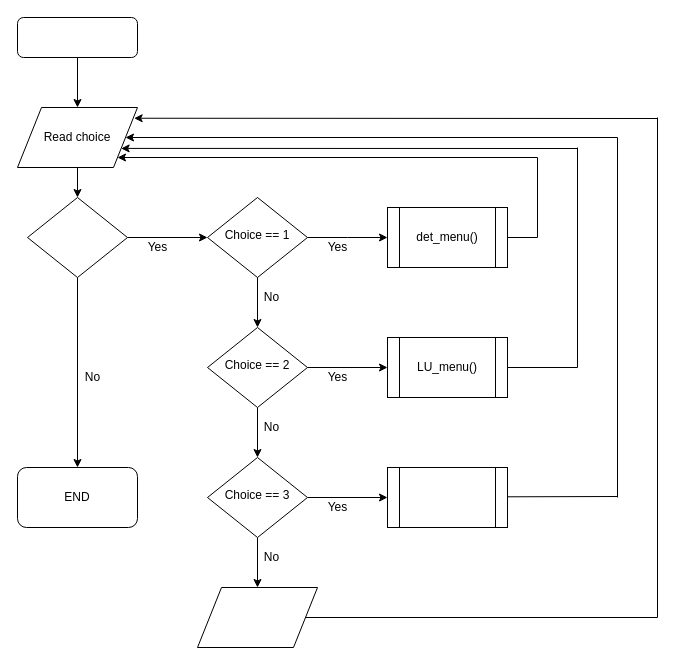
This 683x665 diagram has some shape labels left out. The box of each missing label's shape, as (x1, y1, x2, y2) in pixels:
Choice != 4: (26, 196, 128, 278)
interpolation(): (386, 466, 508, 528)
Print "Try Again": (196, 586, 318, 648)
START: (16, 16, 138, 58)
